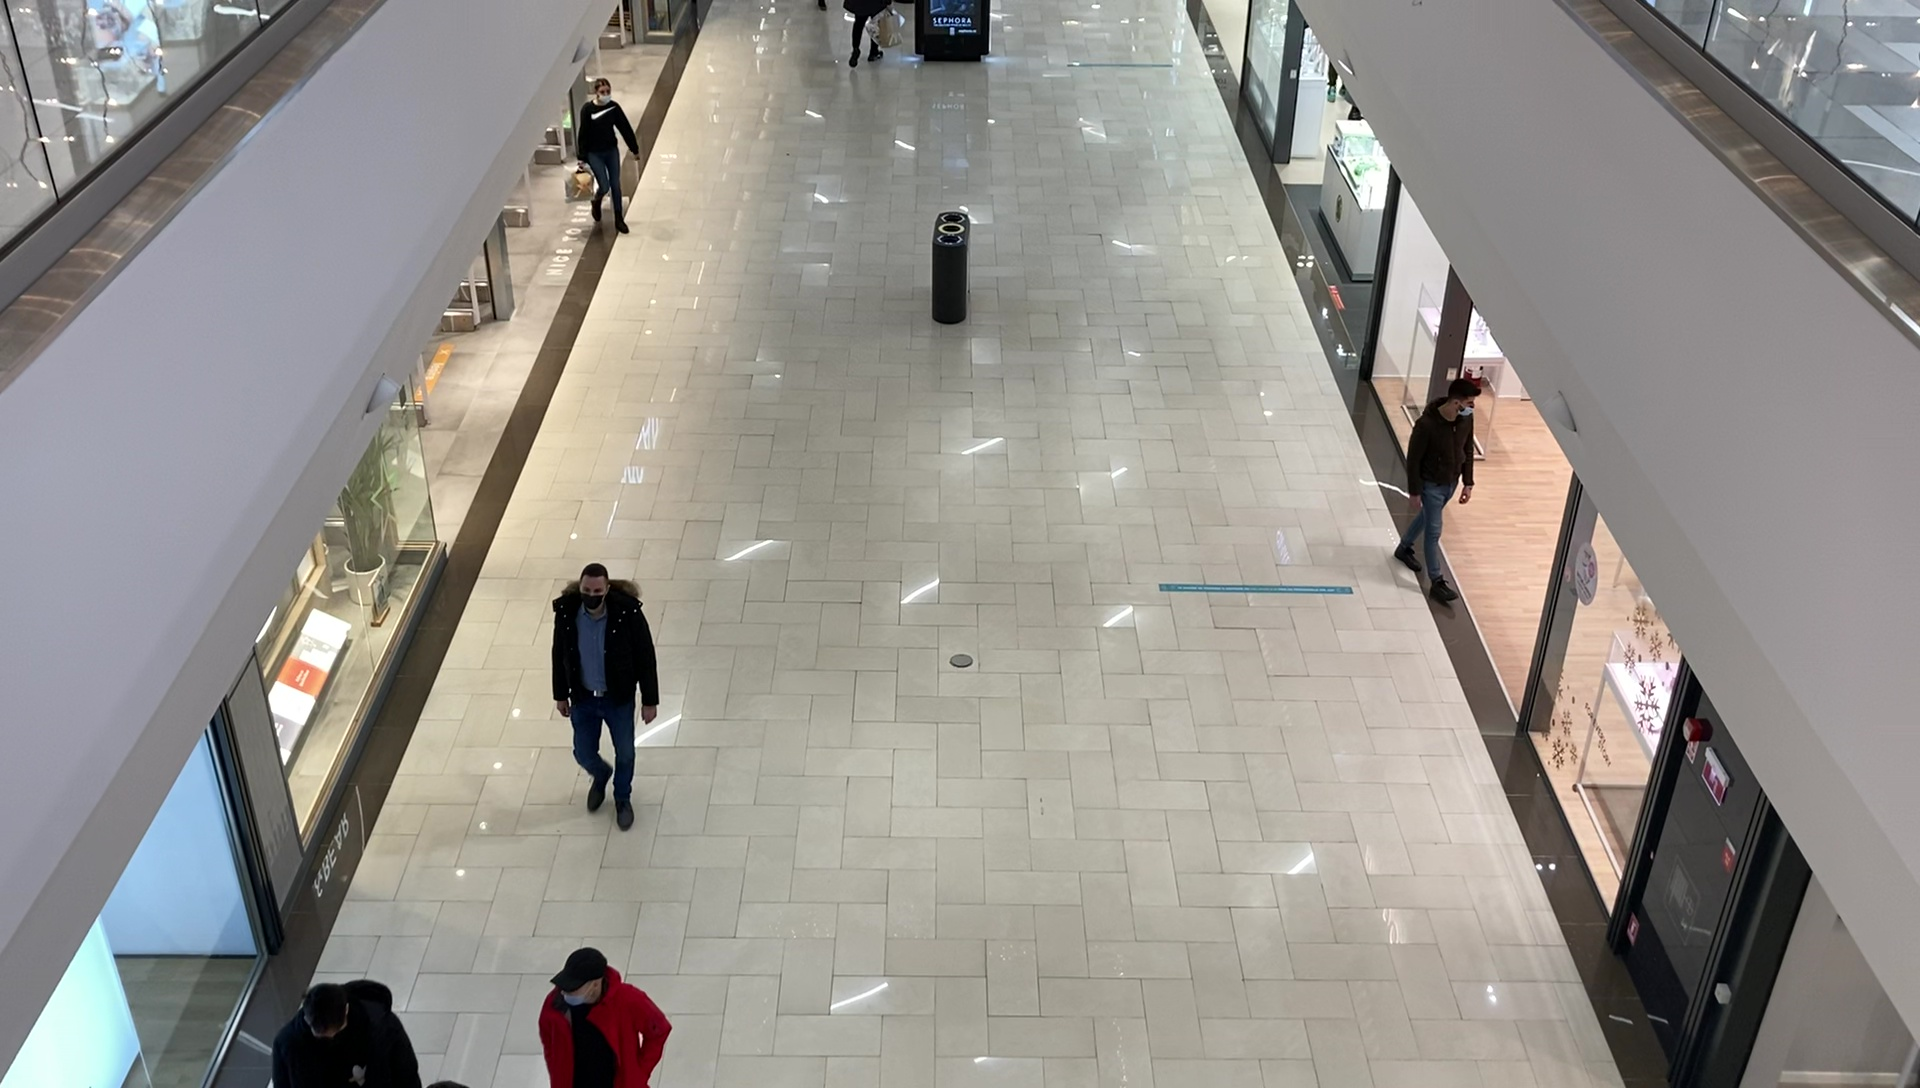person: (550, 562, 658, 831), (1397, 379, 1481, 604), (539, 948, 674, 1088), (273, 980, 418, 1087), (575, 79, 642, 238)
